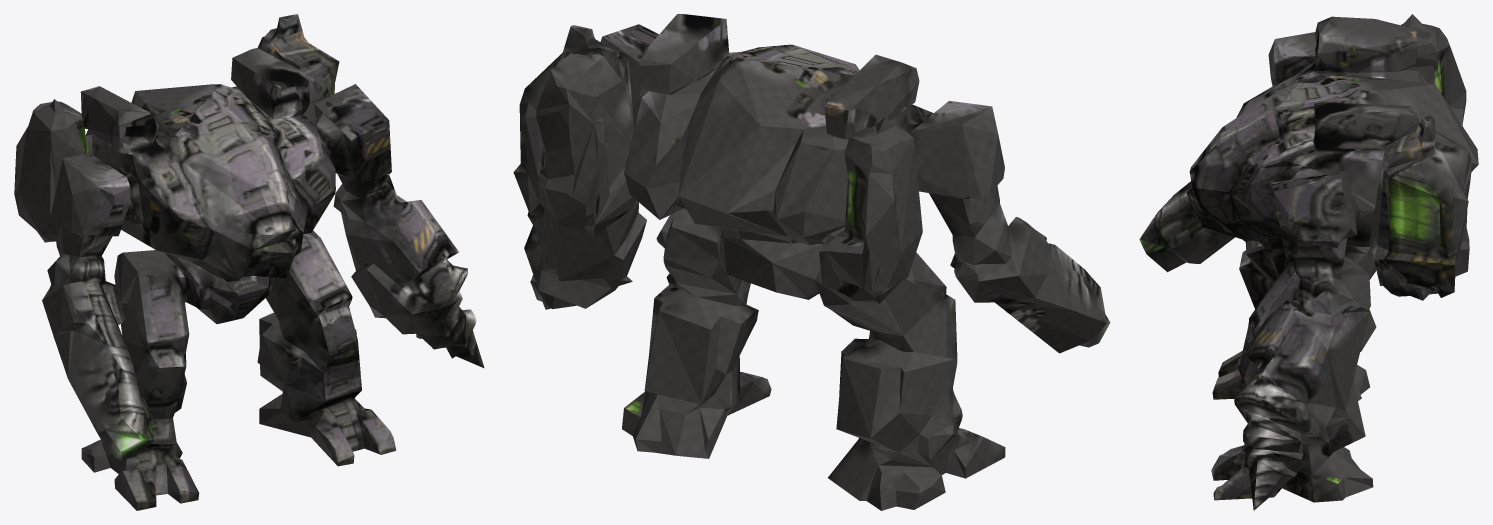
File: commander_lod2.glb
3 renders of one model, left to right at view 1: azimuth 30°, elevation 25°; view 2: azimuth 150°, elevation 25°; view 3: azimuth 270°, elevation 25°, orthographic. The views are drawn at different scales.
Parts seen in each view (by area): view 1: VexCommander; view 2: VexCommander; view 3: VexCommander.
Part boxes in pixels (x1,y1,x2,y2): VexCommander: (14, 14, 484, 510); VexCommander: (513, 14, 1110, 510); VexCommander: (1139, 14, 1478, 510).
Size of the model in its own units: 1.97 by 1.62 by 1.3.
1 material, 1 textured.
